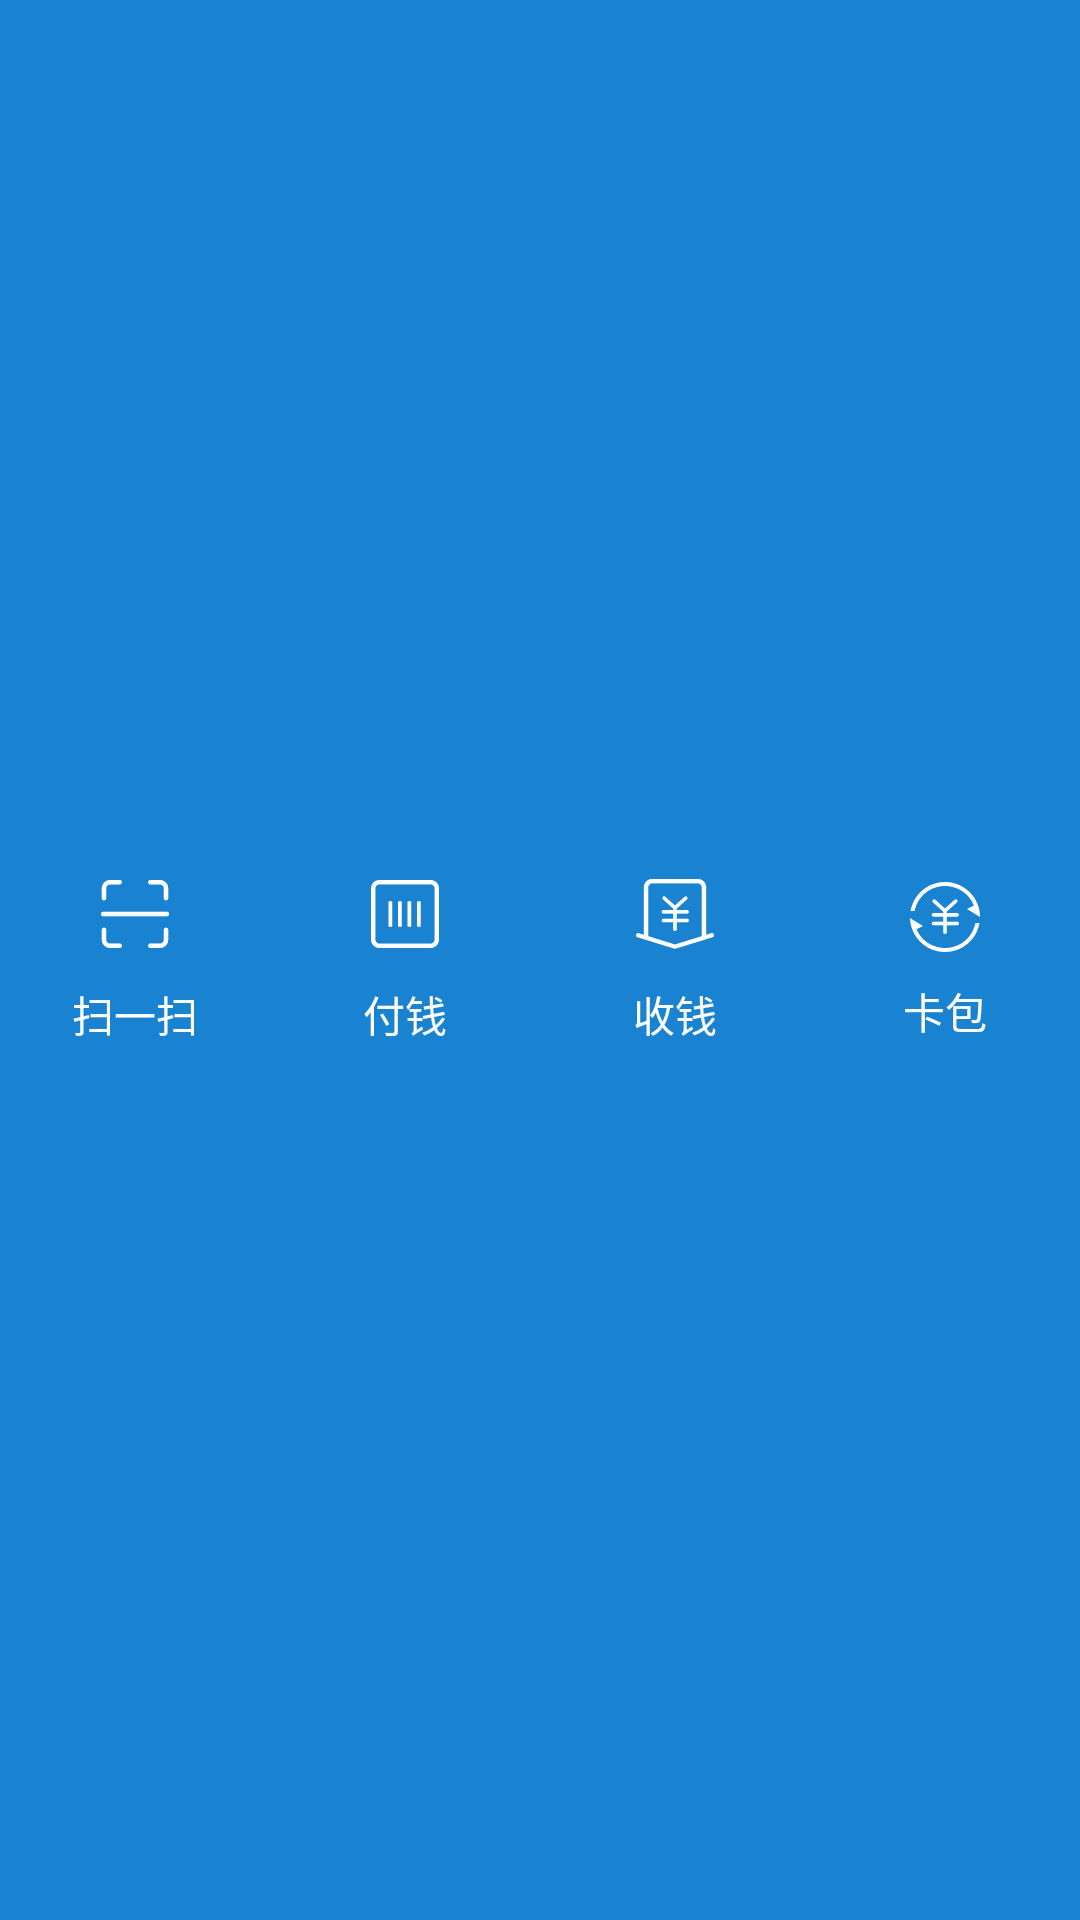

Icons on this 1080×1920 Android screen, each with its box as rect(x1, y1, x2, y2):
payment: rect(371, 880, 439, 948)
scan: rect(101, 880, 169, 948)
